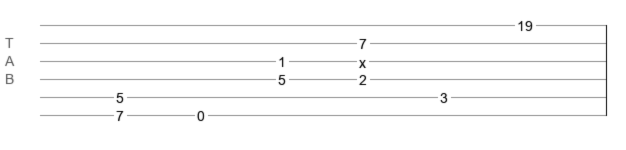0: (197, 108, 205, 118)
1: (278, 54, 286, 64)
19: (517, 18, 533, 28)
2: (359, 72, 367, 82)
3: (440, 90, 448, 100)
5: (116, 90, 124, 100), (278, 72, 286, 82)
7: (116, 108, 124, 118), (359, 36, 367, 46)
x: (359, 55, 366, 63)
